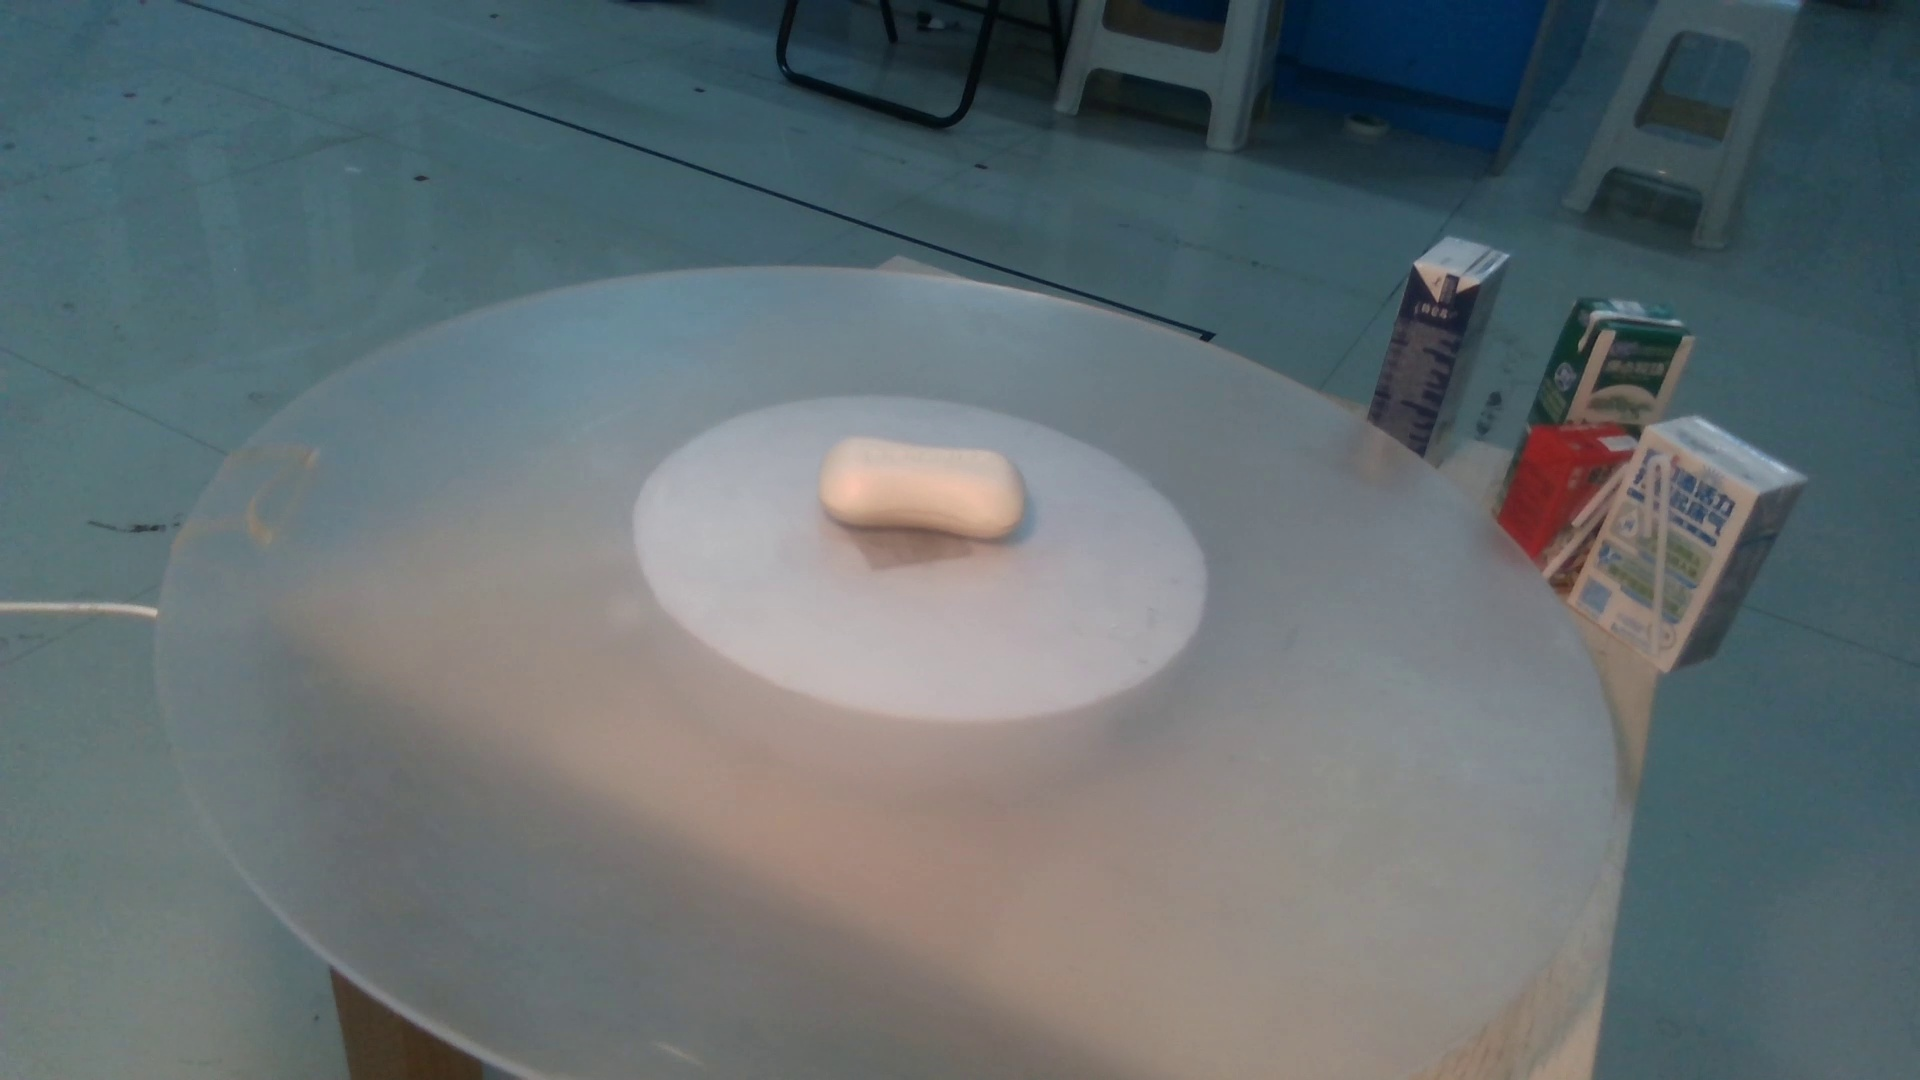CA003_1: (802, 396, 1060, 574)
